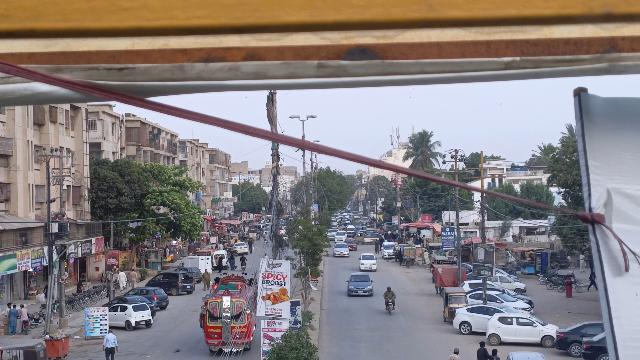Bike: (383, 296, 397, 317), (19, 319, 31, 335)
Bus: (199, 275, 258, 355)
Car: (485, 311, 555, 348), (451, 303, 520, 335), (552, 318, 603, 356), (108, 303, 154, 330), (146, 271, 195, 295), (127, 285, 170, 309), (346, 272, 376, 297), (358, 251, 378, 272)
Person: (97, 327, 120, 360), (6, 304, 19, 335), (199, 269, 212, 291), (382, 285, 397, 299), (20, 302, 30, 321)
Rickshaw: (442, 286, 468, 324)
Truck: (179, 254, 213, 275)
